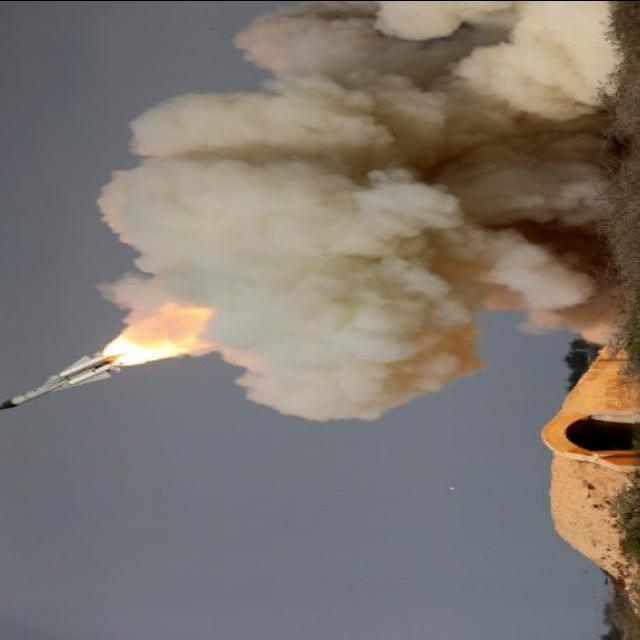missile: (0, 348, 126, 412)
